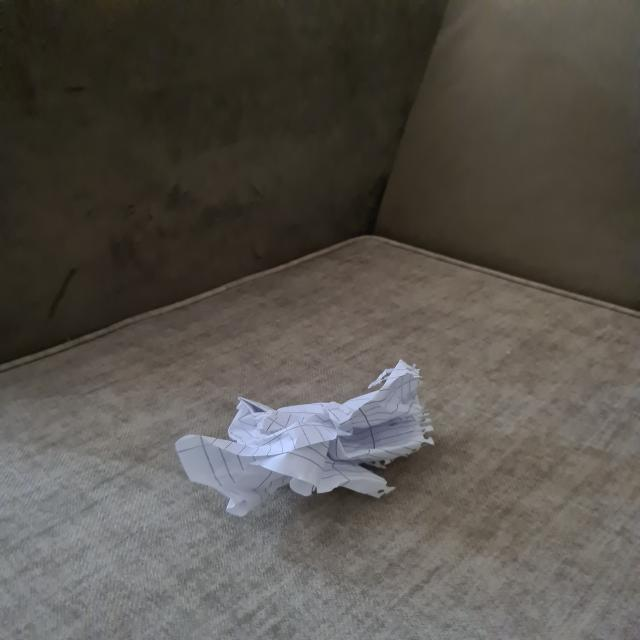Paper: (171, 351, 433, 512)
